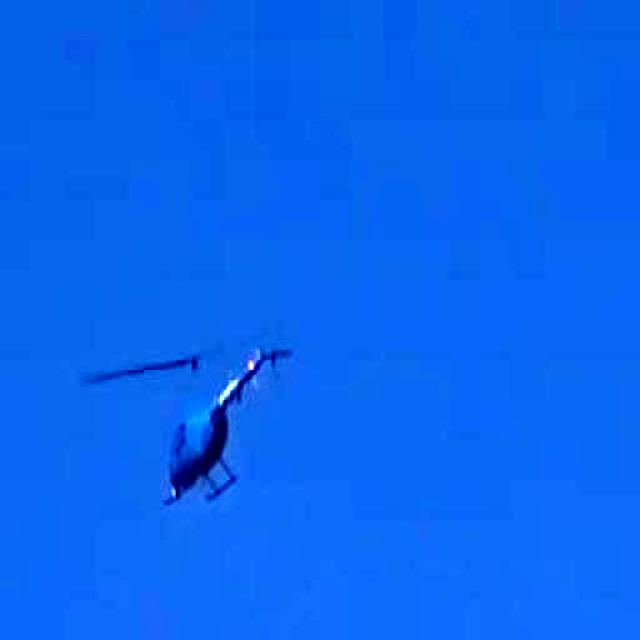drone: (82, 302, 321, 541)
